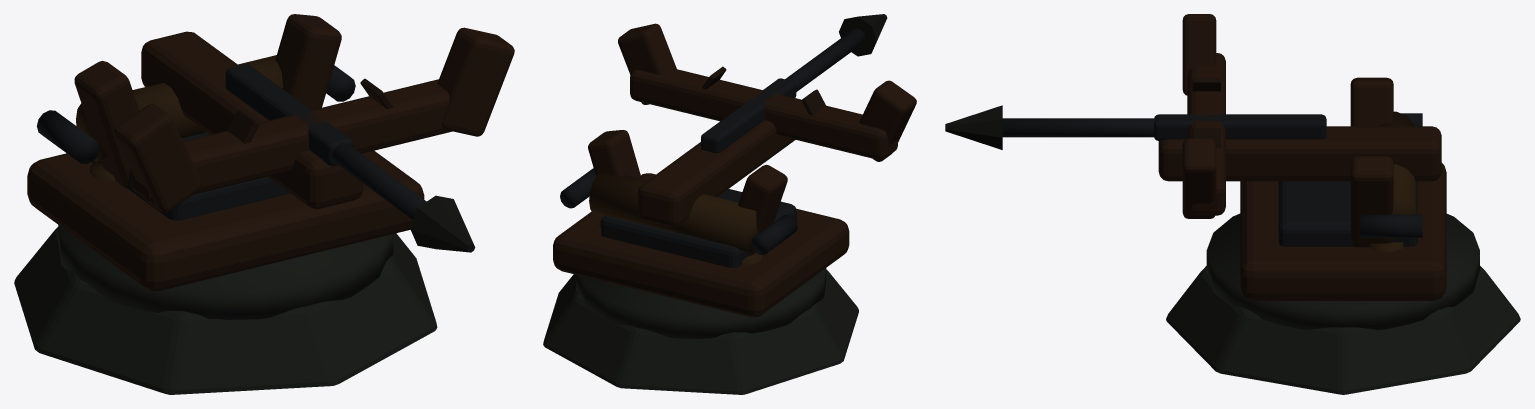
Rendered from TowerSeed0.obj.
3 views of the same model, side by side, from view 1: azimuth 30°, elevation 25°; view 2: azimuth 150°, elevation 25°; view 3: azimuth 270°, elevation 25° (orthographic). The views are drawn at different scales.
Parts seen in each view (by area): view 1: limestone_socket_lower_course, oak_bed, cut_stone_course, oak_bow_crossbar, ballista_stock, bow_tip.001, bow_tip, oak_A_frame.001, oak_A_frame, iron_guide, iron_turntable, bolt_head (+5 smaller); view 2: limestone_socket_lower_course, oak_bed, oak_bow_crossbar, cut_stone_course, ballista_stock, bronze_windlass, iron_turntable, iron_guide, bow_tip, bow_tip.001, oak_A_frame, oak_A_frame.001 (+5 smaller); view 3: limestone_socket_lower_course, oak_bed, ballista_stock, cut_stone_course, iron_turntable, iron_guide, oak_A_frame.001, oak_bow_crossbar, iron_bolt, bow_tip.001, oak_A_frame, bow_tip (+3 smaller).
Boxes of the visible parts, box(x1,y1,x2,y2) form: limestone_socket_lower_course: box(14, 227, 437, 394); oak_bed: box(27, 151, 424, 291); cut_stone_course: box(58, 225, 393, 319); oak_bow_crossbar: box(130, 79, 452, 203); ballista_stock: box(141, 31, 363, 208); bow_tip.001: box(437, 27, 514, 136); bow_tip: box(114, 104, 202, 212); oak_A_frame.001: box(275, 14, 341, 109); oak_A_frame: box(74, 60, 139, 187); iron_guide: box(225, 64, 353, 166); iron_turntable: box(92, 132, 290, 220); bolt_head: box(410, 195, 475, 252); limestone_socket_lower_course: box(543, 269, 858, 394); oak_bed: box(553, 173, 849, 317); oak_bow_crossbar: box(630, 68, 897, 159); cut_stone_course: box(576, 268, 826, 338); ballista_stock: box(638, 120, 795, 226); bronze_windlass: box(589, 172, 758, 252); iron_turntable: box(601, 189, 796, 267); iron_guide: box(701, 78, 796, 152); bow_tip: box(859, 80, 916, 161); bow_tip.001: box(618, 23, 676, 104); oak_A_frame: box(738, 164, 787, 256); oak_A_frame.001: box(588, 130, 641, 178); limestone_socket_lower_course: box(1166, 266, 1520, 394); oak_bed: box(1240, 163, 1446, 300); ballista_stock: box(1158, 126, 1441, 181); cut_stone_course: box(1206, 213, 1479, 329); iron_turntable: box(1278, 181, 1417, 246); iron_guide: box(1154, 114, 1326, 140); oak_A_frame.001: box(1350, 156, 1393, 247); oak_bow_crossbar: box(1187, 53, 1225, 215); iron_bolt: box(1002, 118, 1155, 137); bow_tip.001: box(1182, 138, 1216, 218); oak_A_frame: box(1350, 77, 1393, 126); bow_tip: box(1182, 14, 1216, 95).
Bounding box in the file's own units: 1.51 × 1.12 × 2.4.
